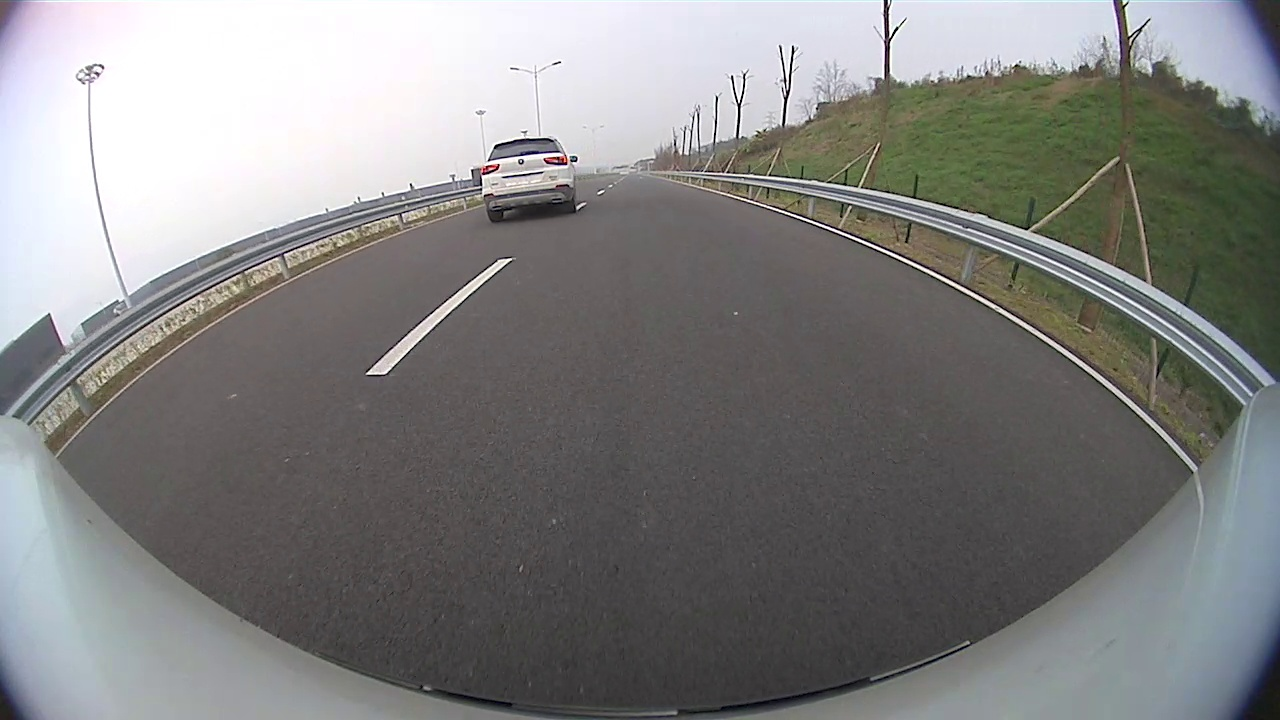car: (479, 133, 579, 222)
